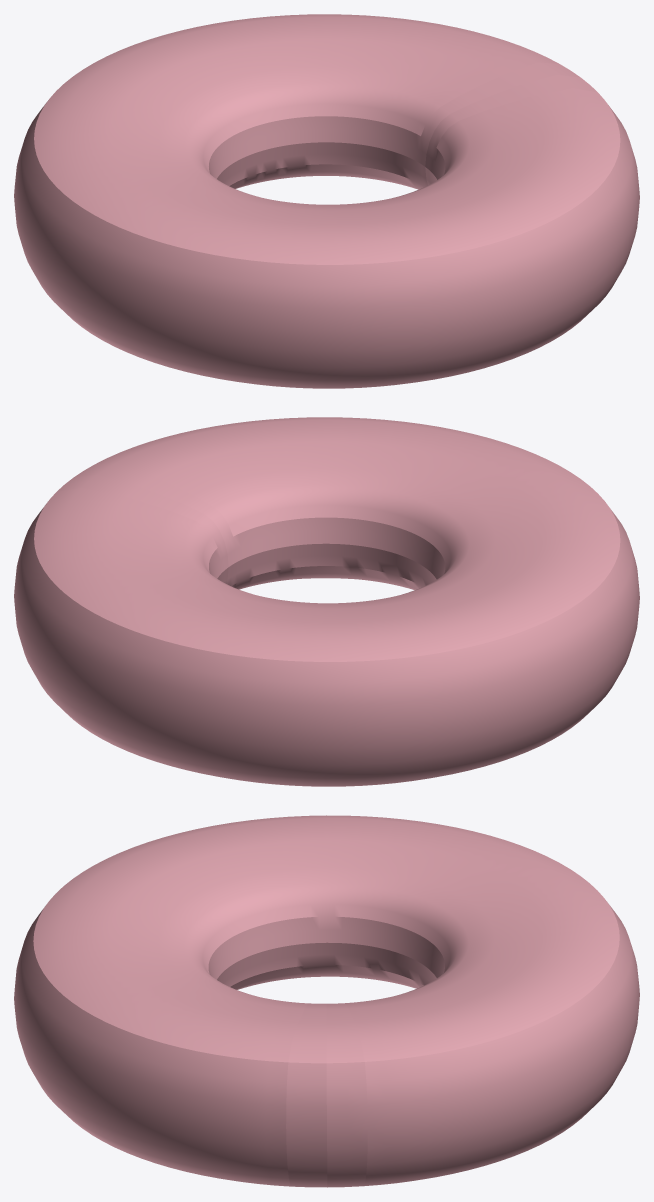
The model's file is donut.glb.
3 renders of one model, top to bottom at view 1: azimuth 30°, elevation 25°; view 2: azimuth 150°, elevation 25°; view 3: azimuth 270°, elevation 25°, orthographic.
Visible parts, largest first — view 1: donut; view 2: donut; view 3: donut.
Boxes of the visible parts, x1,y1,x2,y2 form: donut: (14, 14, 639, 388); donut: (14, 417, 639, 786); donut: (14, 815, 639, 1187).
Bounding box in the file's own units: 0.209 × 0.0543 × 0.209.
